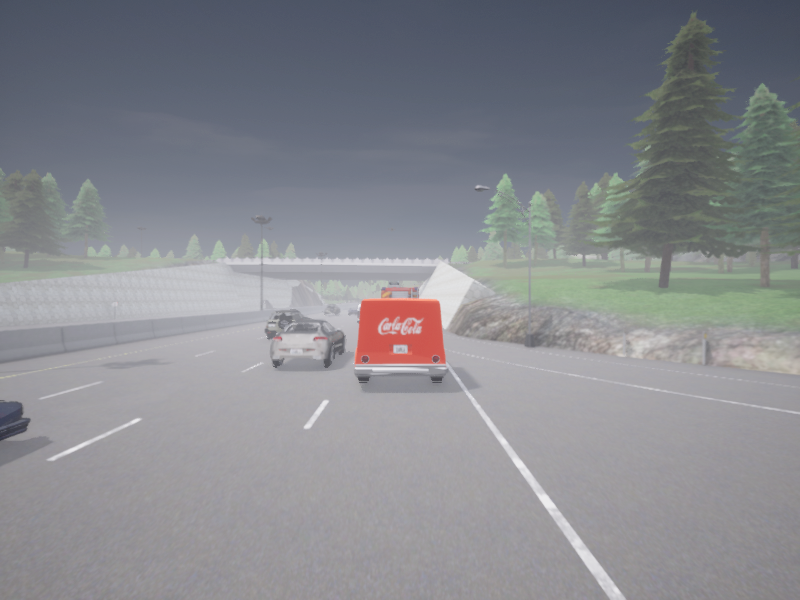vehicle: (354, 298, 447, 381), (270, 320, 345, 366), (265, 308, 311, 339), (0, 400, 30, 440), (381, 281, 418, 297), (324, 303, 340, 315), (348, 307, 358, 314), (357, 304, 360, 322)
